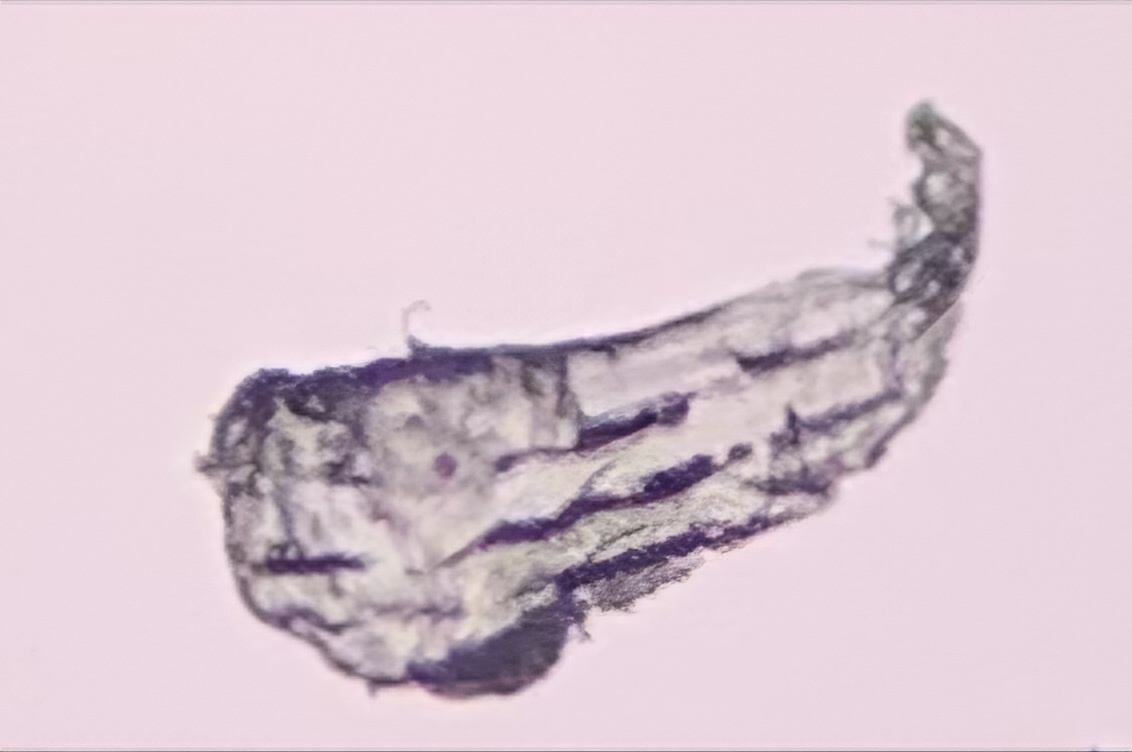microplastic: (196, 98, 983, 701)
